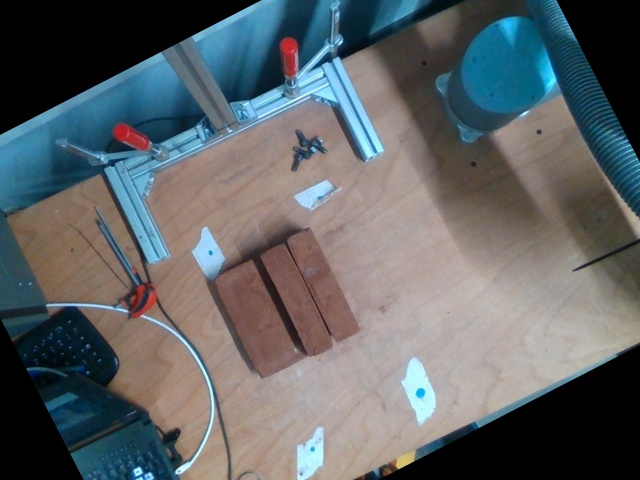brick: (211, 258, 305, 379)
brick-side: (284, 227, 362, 342), (260, 242, 335, 355)
